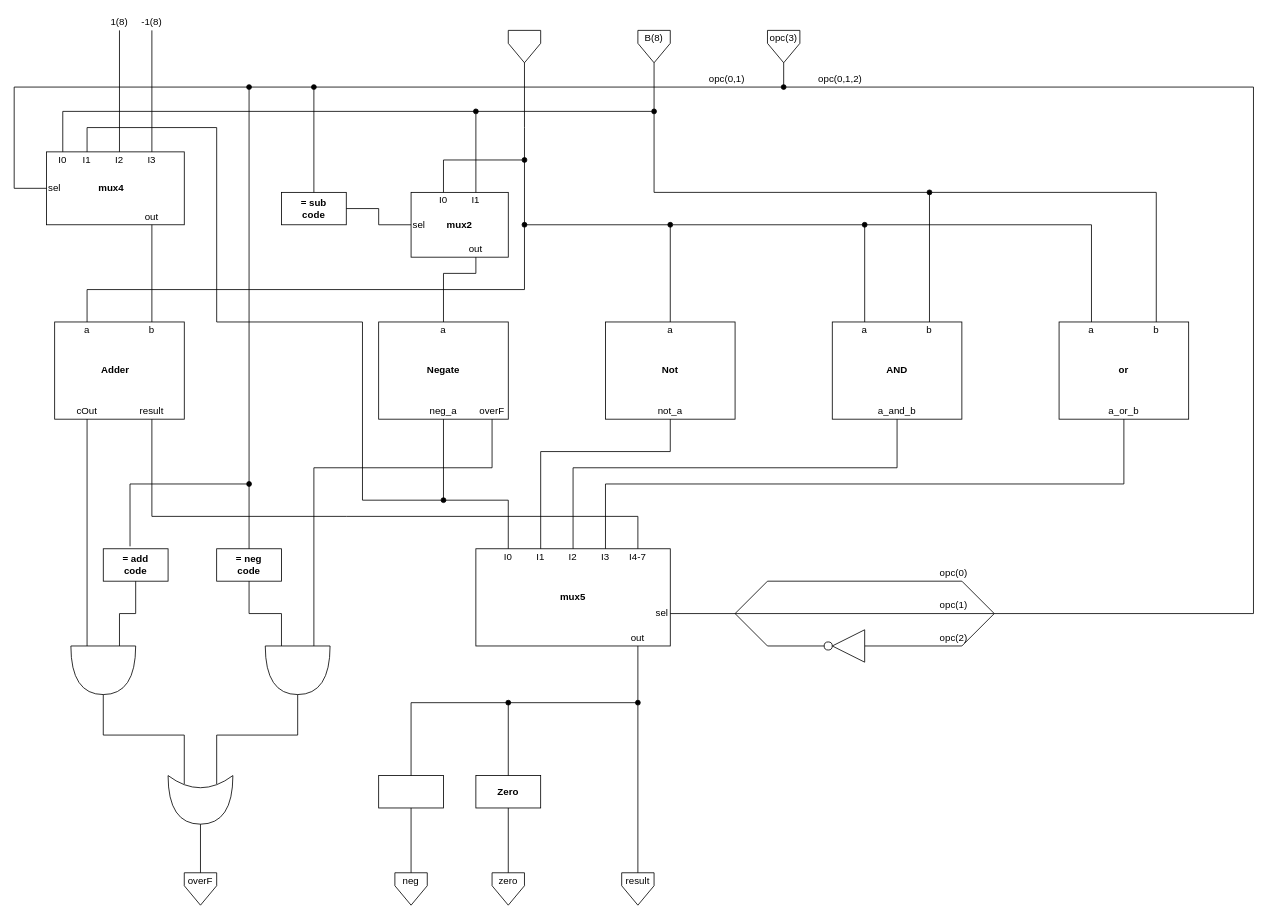
Image size: 1274x919. Some labels were removed from this diagram. The centre of each missing label's shape, as x and y in pixels:
A(8): (x=524, y=46)
Negative: (x=410, y=791)
